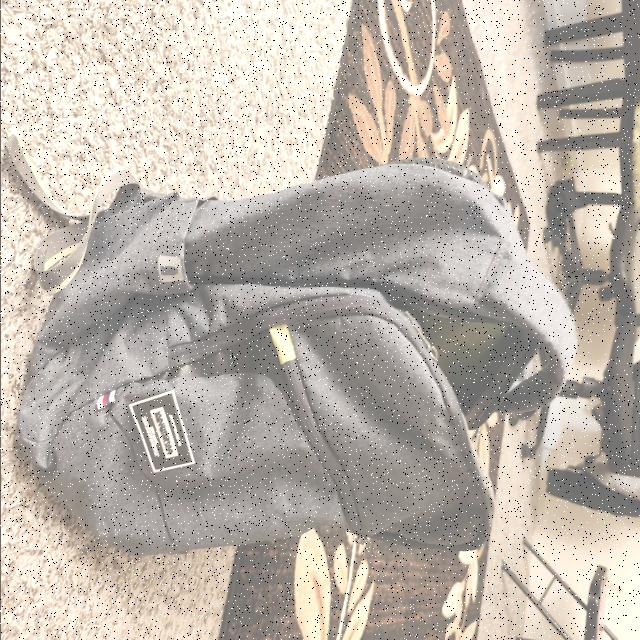bag: (12, 165, 572, 543)
